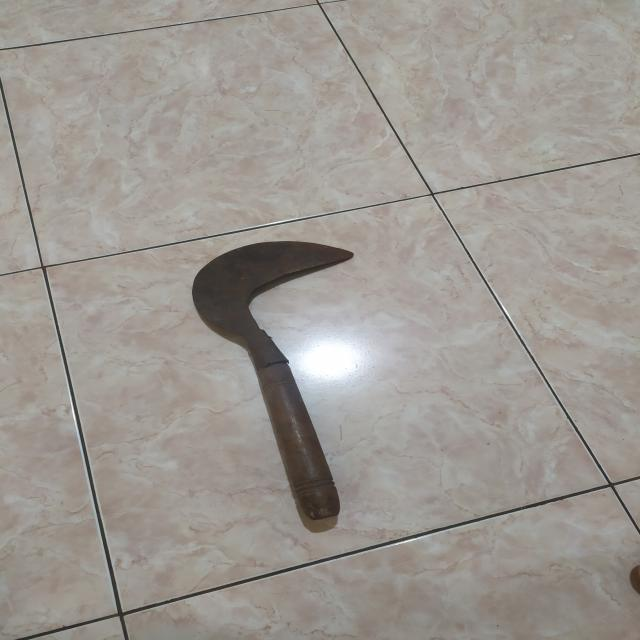Celurit: (193, 241, 357, 526)
